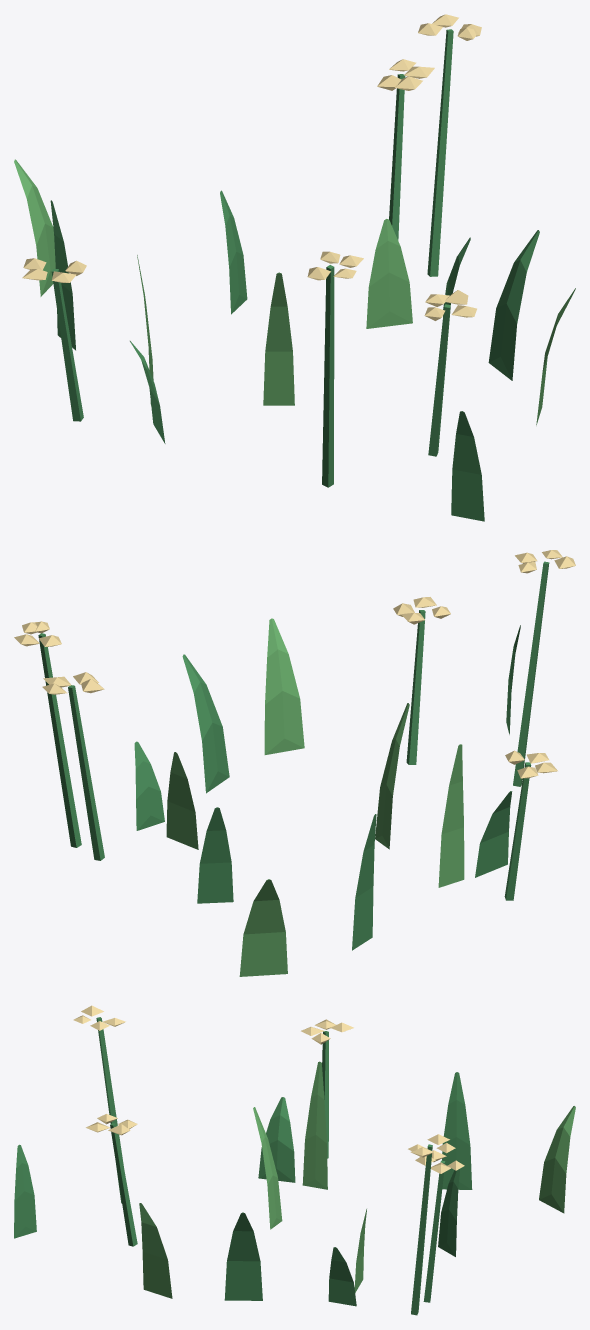
Rendered from flowers_meadow_b.glb.
3 views of the same model, one above another, from view 1: azimuth 30°, elevation 25°; view 2: azimuth 150°, elevation 25°; view 3: azimuth 270°, elevation 25° (orthographic). The views are drawn at different scales.
Visible parts, largest first — view 1: FlowersMeadowB; view 2: FlowersMeadowB; view 3: FlowersMeadowB.
Boxes of the visible parts, x1,y1,x2,y2 form: FlowersMeadowB: (14, 14, 575, 521); FlowersMeadowB: (14, 550, 575, 976); FlowersMeadowB: (14, 1005, 575, 1315).
Size of the model in its own units: 0.6416 by 0.2889 by 0.7765.
